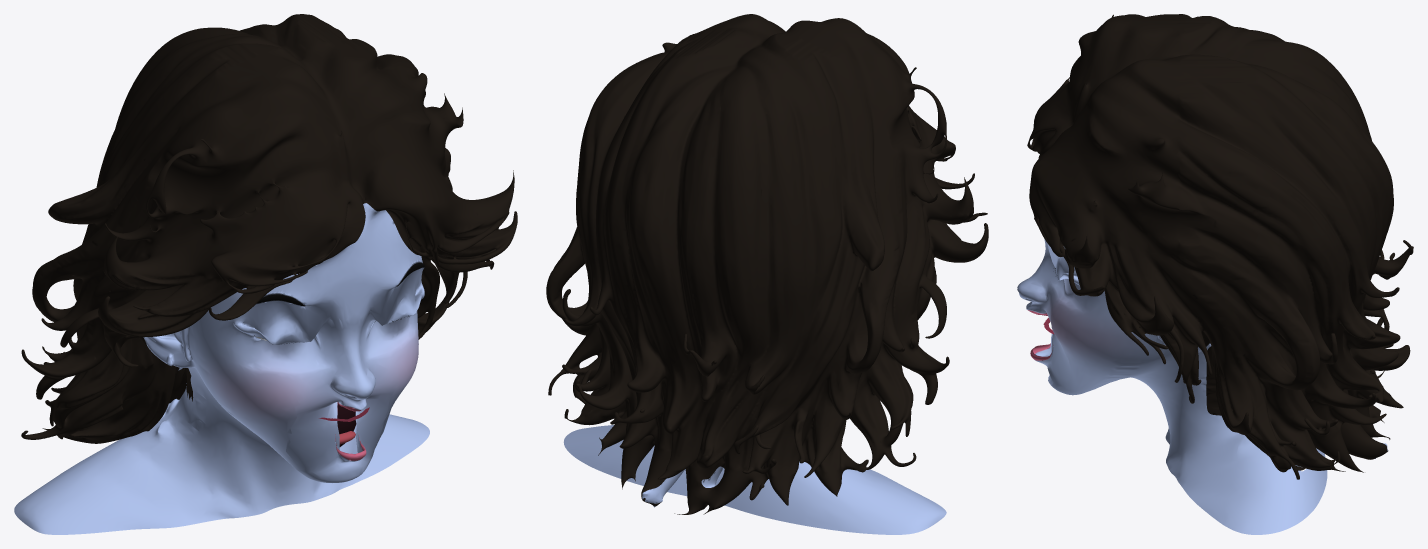
The model's file is krishna-fast-14715ca68c89.glb.
3 renders of one model, left to right at view 1: azimuth 30°, elevation 25°; view 2: azimuth 150°, elevation 25°; view 3: azimuth 270°, elevation 25°, orthographic. The views are drawn at different scales.
Parts seen in each view (by area): view 1: Krishna hair, Krishna_face; view 2: Krishna hair, Krishna_face; view 3: Krishna hair, Krishna_face.
Part boxes in pixels (x1,y1,x2,y2): Krishna hair: (21, 14, 517, 443); Krishna_face: (14, 203, 429, 534); Krishna hair: (546, 14, 988, 514); Krishna_face: (563, 425, 946, 534); Krishna hair: (1027, 14, 1413, 479); Krishna_face: (1017, 239, 1387, 534).
Size of the model in its own units: 0.6225 by 0.6097 by 0.5256.
Materials: 12 (6 with a texture image).
